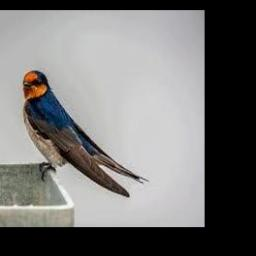Swallow: (23, 70, 149, 198)
